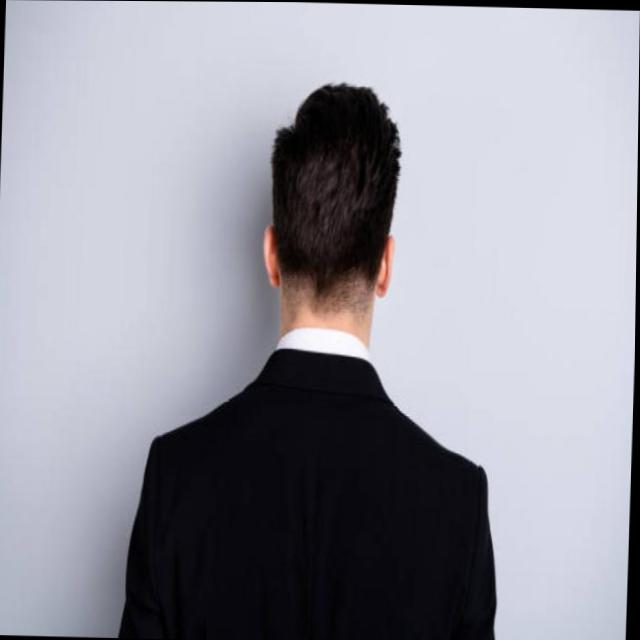no helmet: (257, 82, 409, 333)
